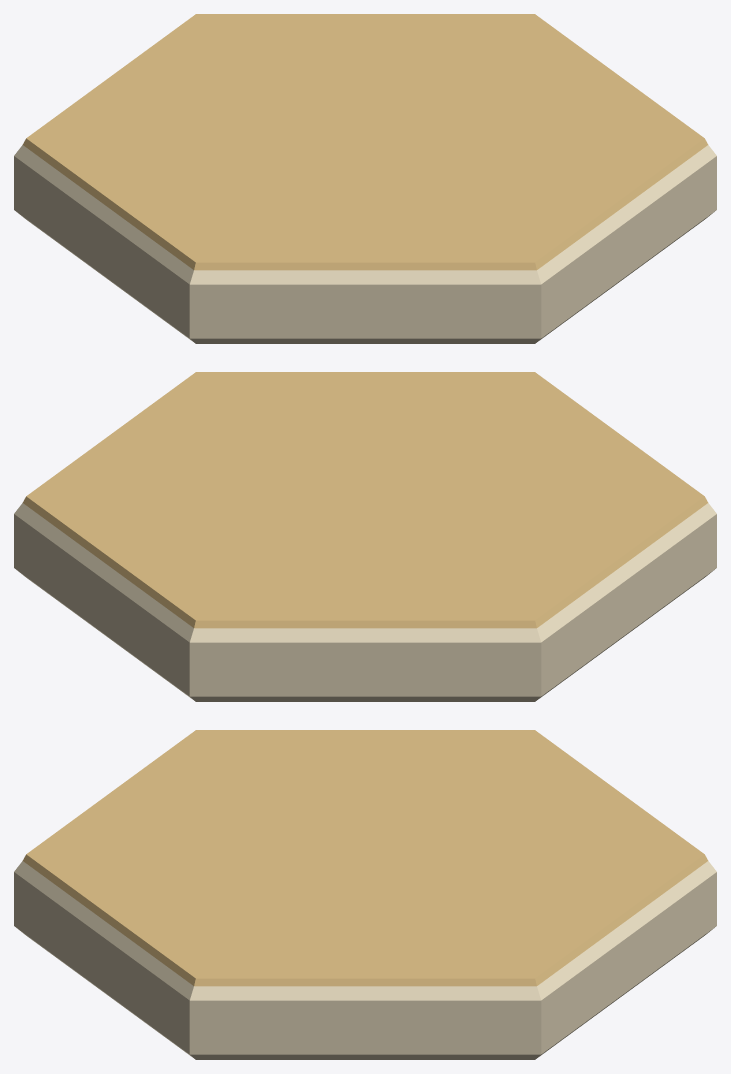
Rendered from foundation-desert.glb.
3 views of the same model, one above another, from view 1: azimuth 30°, elevation 25°; view 2: azimuth 150°, elevation 25°; view 3: azimuth 270°, elevation 25° (orthographic).
Visible parts, largest first — view 1: foundation-desert.003, foundation-desert.001, foundation-desert.002, foundation-desert; view 2: foundation-desert.003, foundation-desert.001, foundation-desert.002, foundation-desert; view 3: foundation-desert.003, foundation-desert.001, foundation-desert.002, foundation-desert.
Boxes of the visible parts, x1,y1,x2,y2 form: foundation-desert.003: (22,14,708,270); foundation-desert.001: (14,156,716,338); foundation-desert.002: (14,145,716,284); foundation-desert: (16,211,714,343); foundation-desert.003: (22,372,708,628); foundation-desert.001: (14,514,716,696); foundation-desert.002: (14,503,716,642); foundation-desert: (16,569,714,701); foundation-desert.003: (22,730,708,986); foundation-desert.001: (14,872,716,1054); foundation-desert.002: (14,861,716,1000); foundation-desert: (16,927,714,1059).
Bounding box in the file's own units: 1.7 × 0.25 × 1.96.
